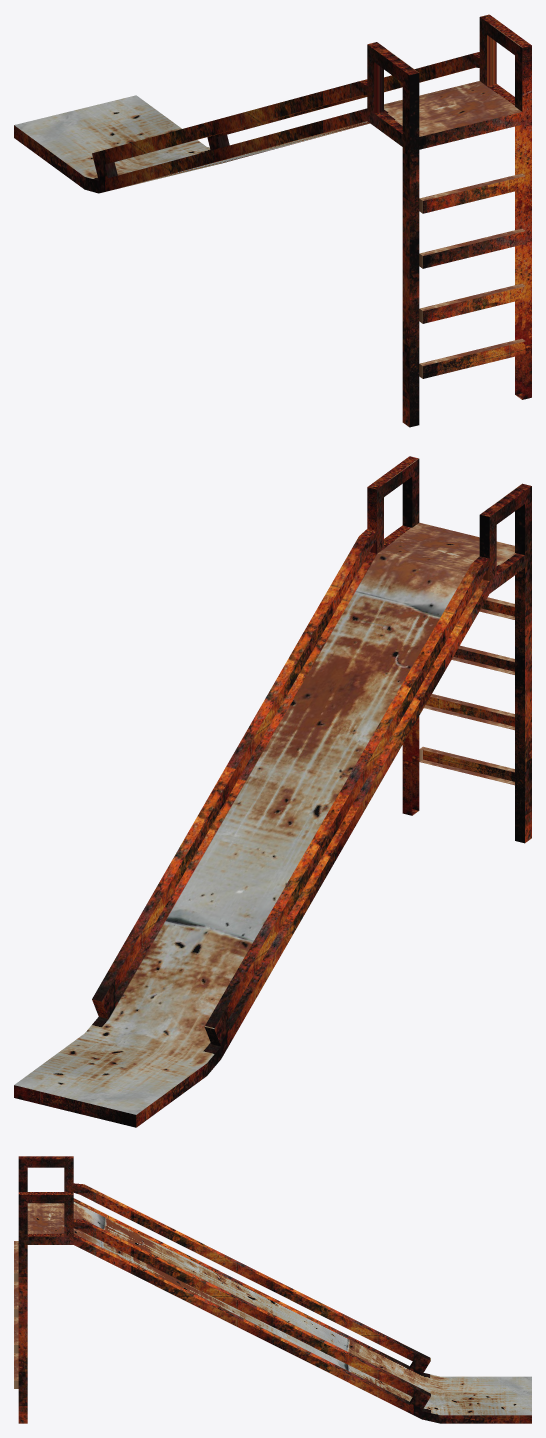
Rendered from slideModel.fbx.
3 renders of one model, top to bottom at view 1: azimuth 30°, elevation 25°; view 2: azimuth 150°, elevation 25°; view 3: azimuth 270°, elevation 25°, orthographic. The views are drawn at different scales.
Parts seen in each view (by area): view 1: slideModel; view 2: slideModel; view 3: slideModel.
Part boxes in pixels (x1,y1,x2,y2): slideModel: (14, 14, 531, 427); slideModel: (14, 456, 531, 1127); slideModel: (14, 1156, 531, 1423).
Size of the model in its own units: 7.01 by 19.26 by 39.58.
1 material, 1 textured.
